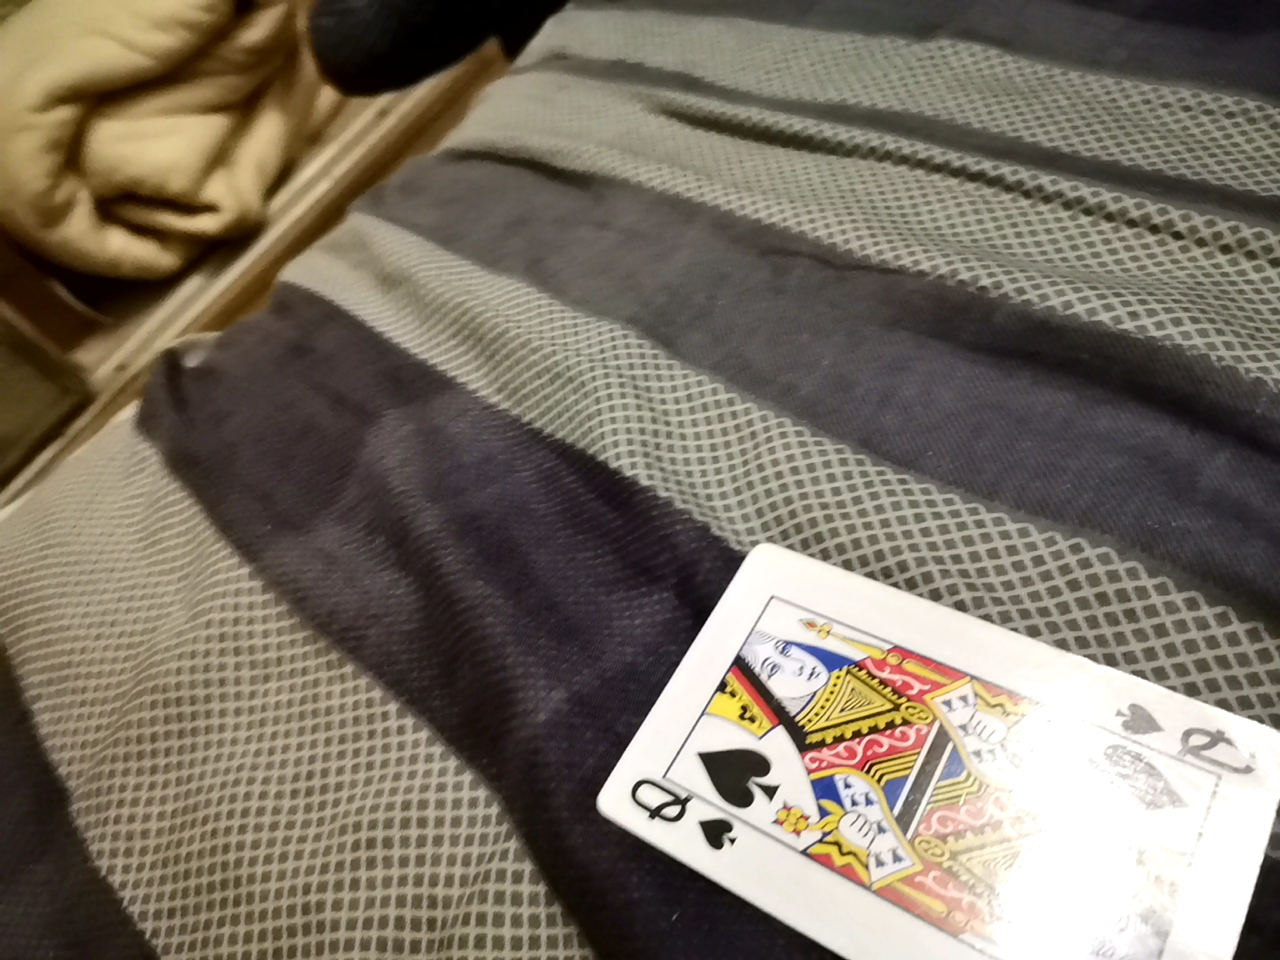ht q: (583, 535, 1262, 953)
